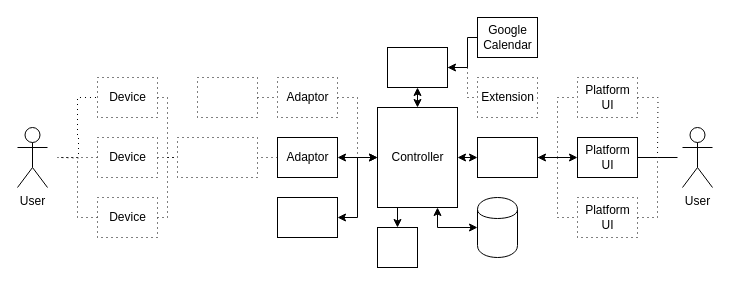
Some shapes in this 730 by 285 pixel diagram are drawn without their labels. The centre of each missing label's shape, as x and y in pixels:
DB: point (497, 227)
Extension Manager: point (417, 67)
Gateway: point (227, 97)
Logs: point (397, 247)
Mock Adaptor: point (307, 217)
REST API: point (507, 157)
RPi Zigbee Controller: point (217, 157)
